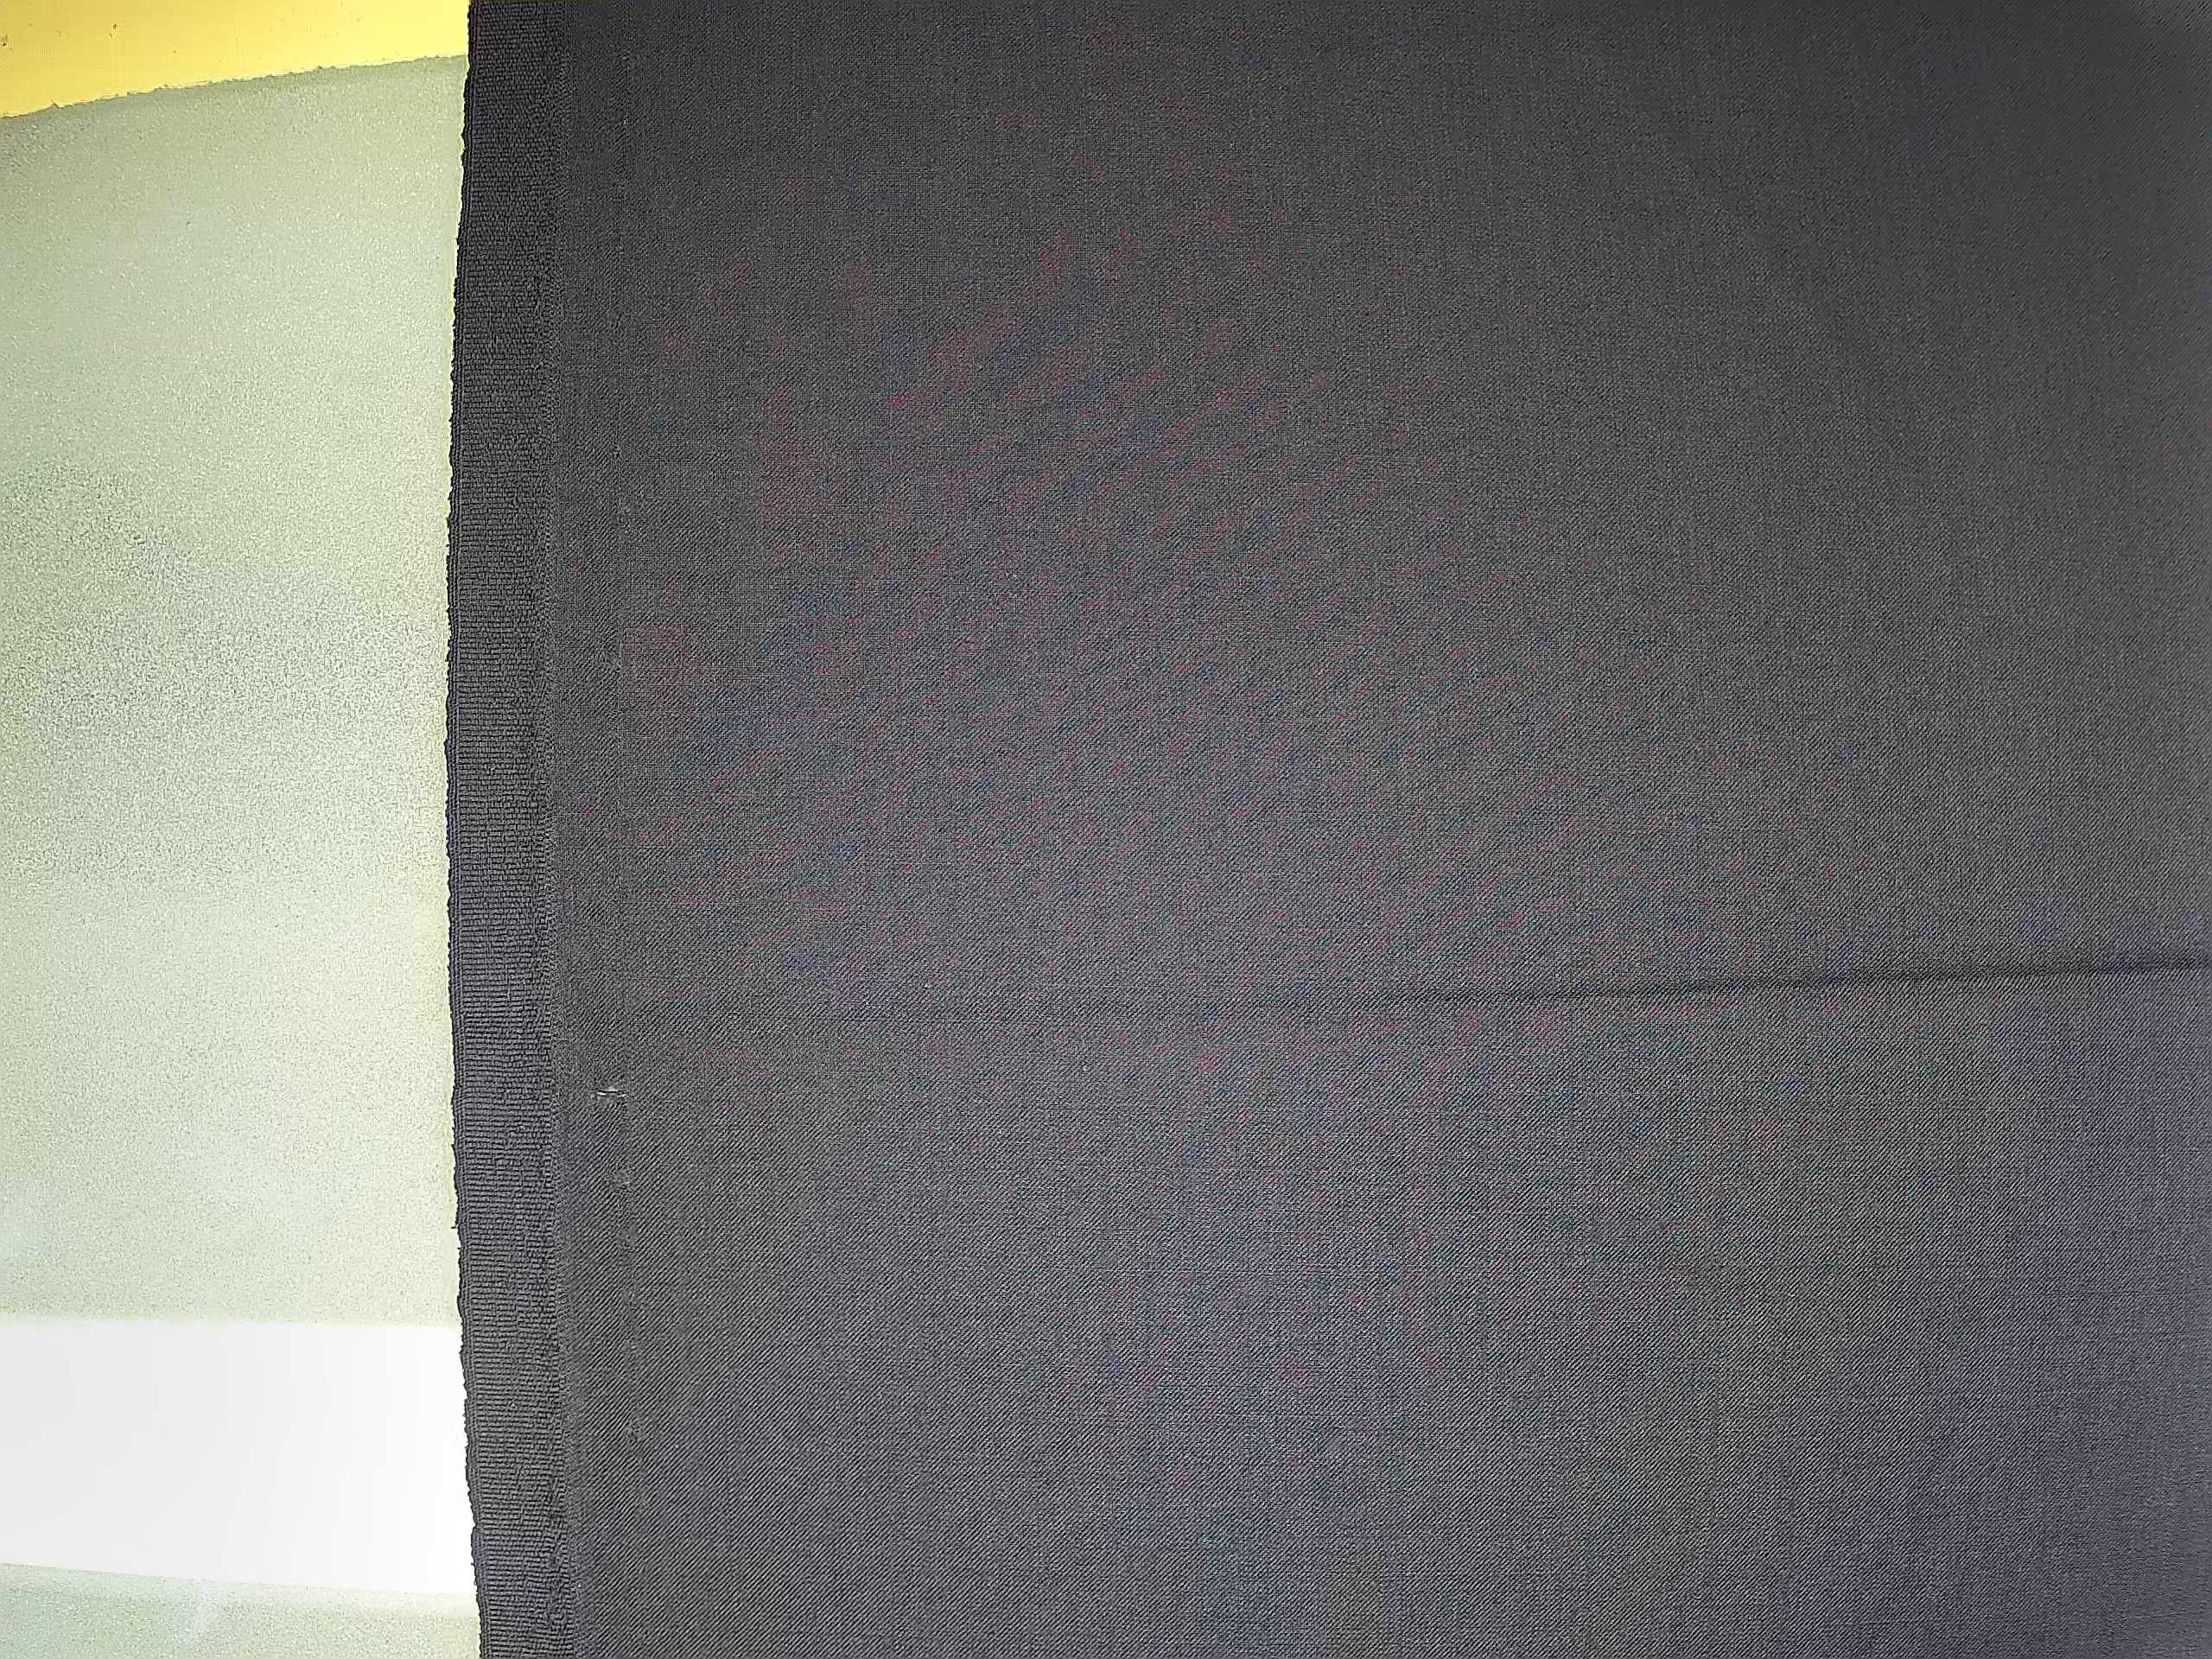puncture-hole: (577, 1065, 646, 1117), (590, 1159, 646, 1215)
